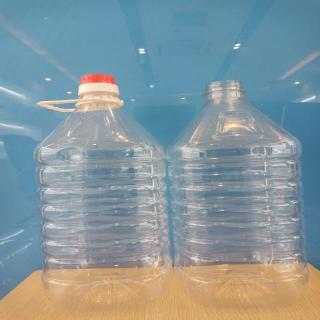Plastic-bottle: (165, 76, 320, 310), (24, 71, 175, 311)
